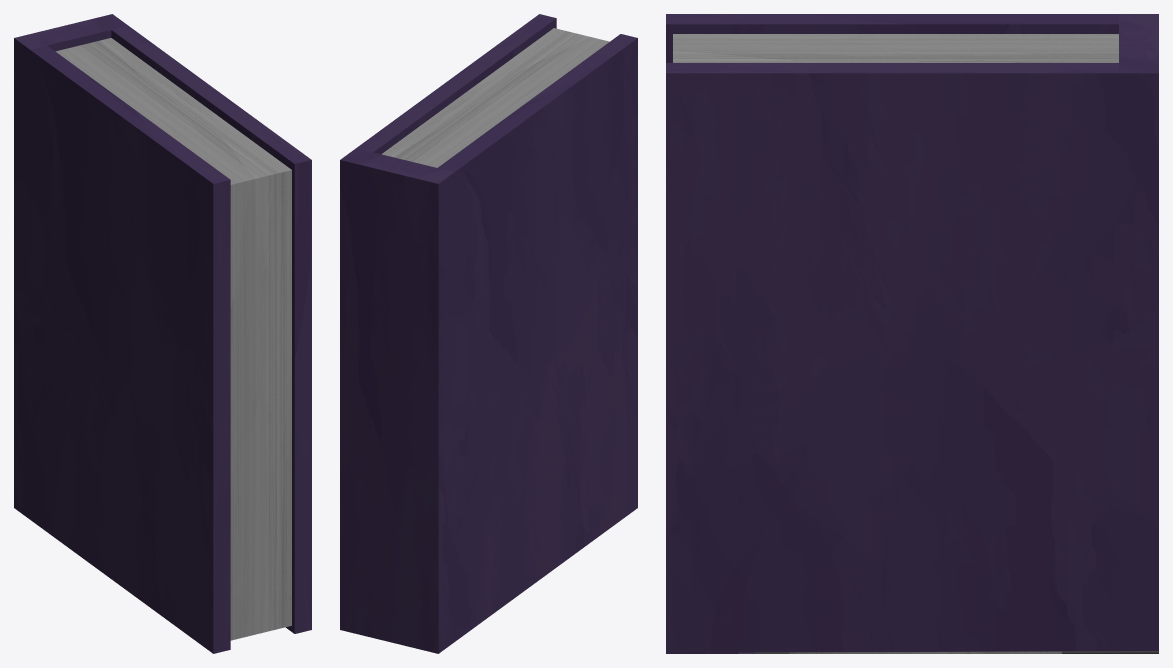
Rendered from M-Book6.fbx.
3 renders of one model, left to right at view 1: azimuth 30°, elevation 25°; view 2: azimuth 150°, elevation 25°; view 3: azimuth 270°, elevation 25°, orthographic. The views are drawn at different scales.
Visible parts, largest first — view 1: Cube.001; view 2: Cube.001; view 3: Cube.001.
Boxes of the visible parts, bbox=[...] form: Cube.001: bbox=[14, 14, 311, 653]; Cube.001: bbox=[340, 14, 637, 653]; Cube.001: bbox=[666, 14, 1158, 653].
Size of the model in its own units: 2.78 by 9.74 by 12.67.
1 material, 1 textured.
